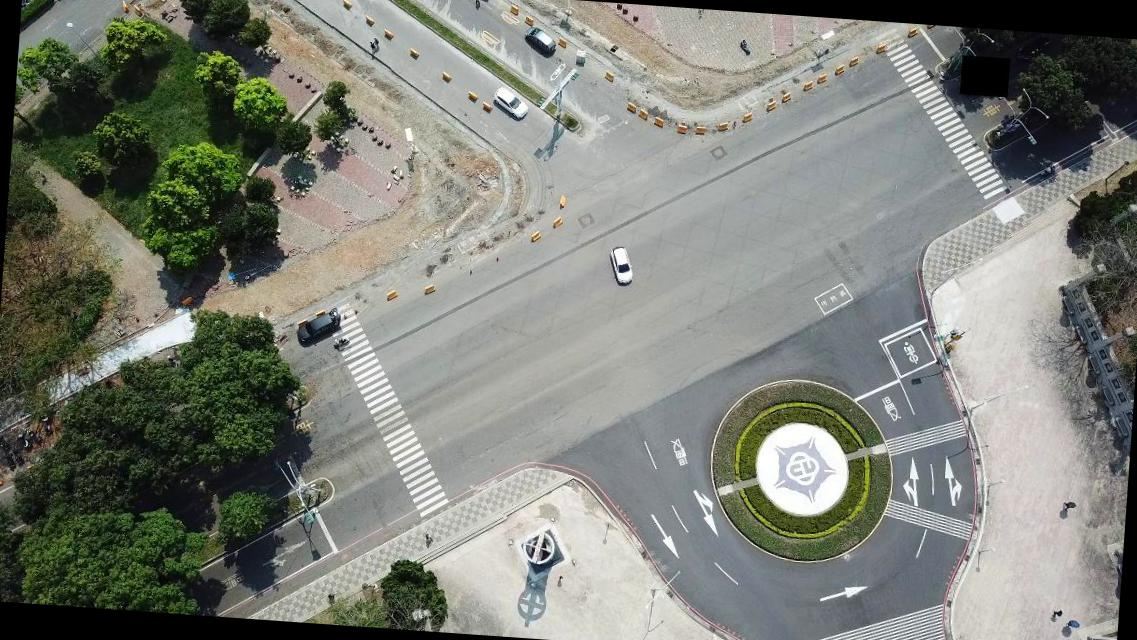vehicle: (295, 308, 341, 344), (491, 86, 529, 120), (606, 244, 634, 284), (522, 26, 556, 54)
